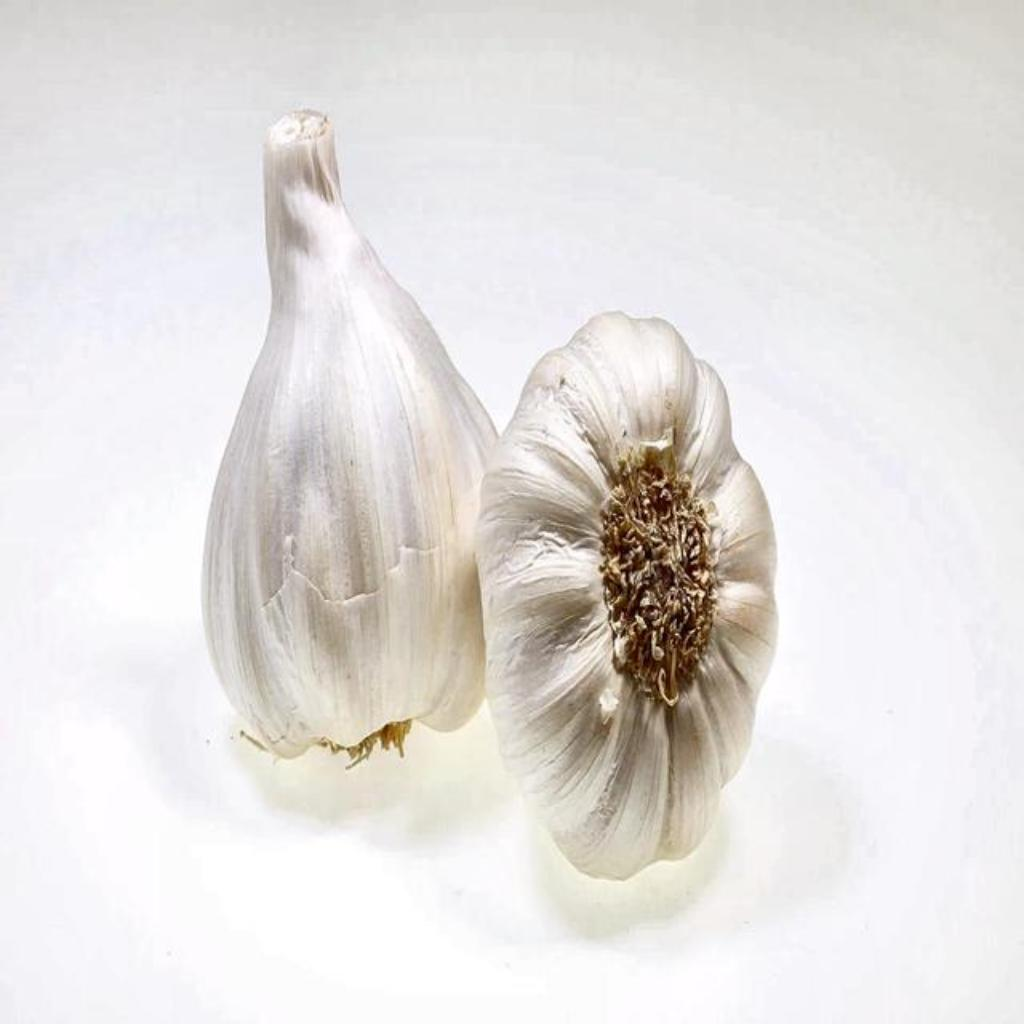garlic: (204, 110, 496, 761), (478, 312, 776, 878)
